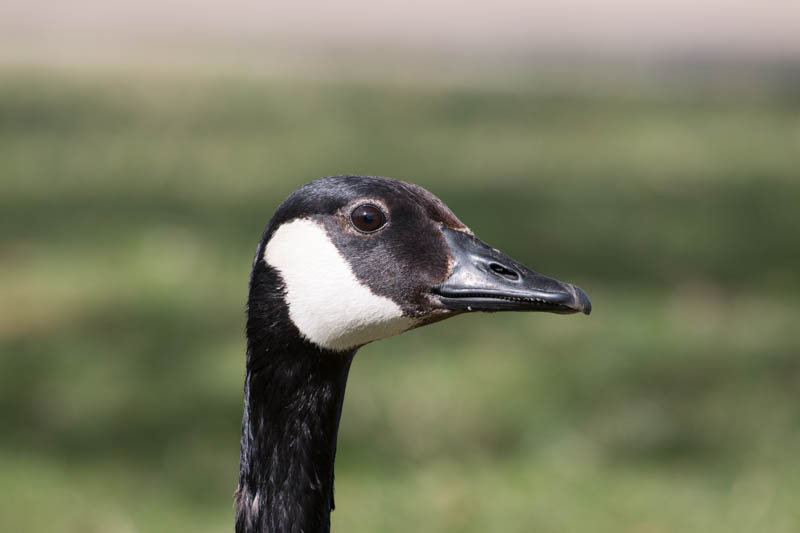goose-head: (246, 174, 592, 353)
